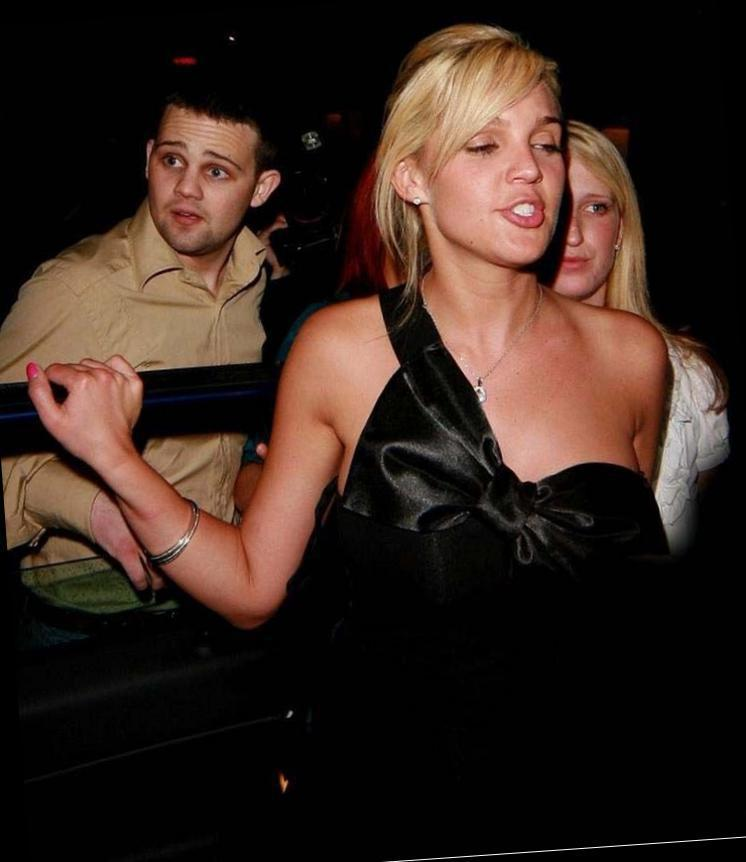Drunk: (443, 70, 565, 261), (153, 122, 250, 245)
